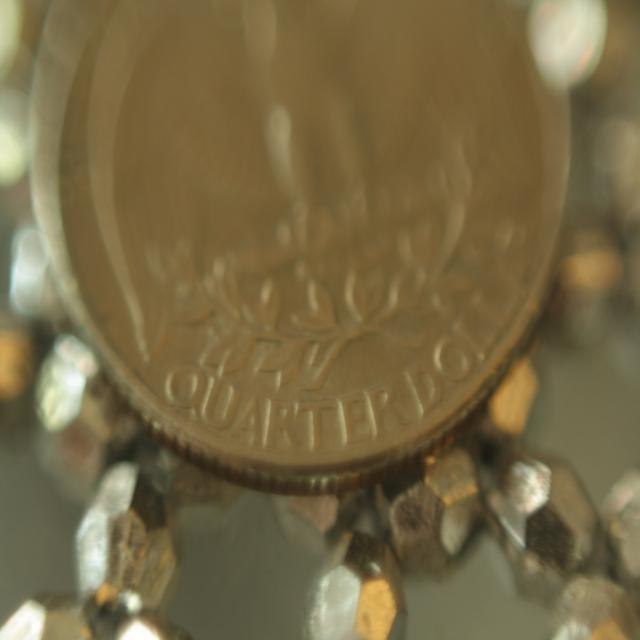Coin: (25, 0, 572, 495)
